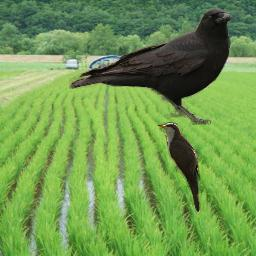Crow: (69, 8, 232, 125)
Cuckoo: (157, 122, 202, 214)
